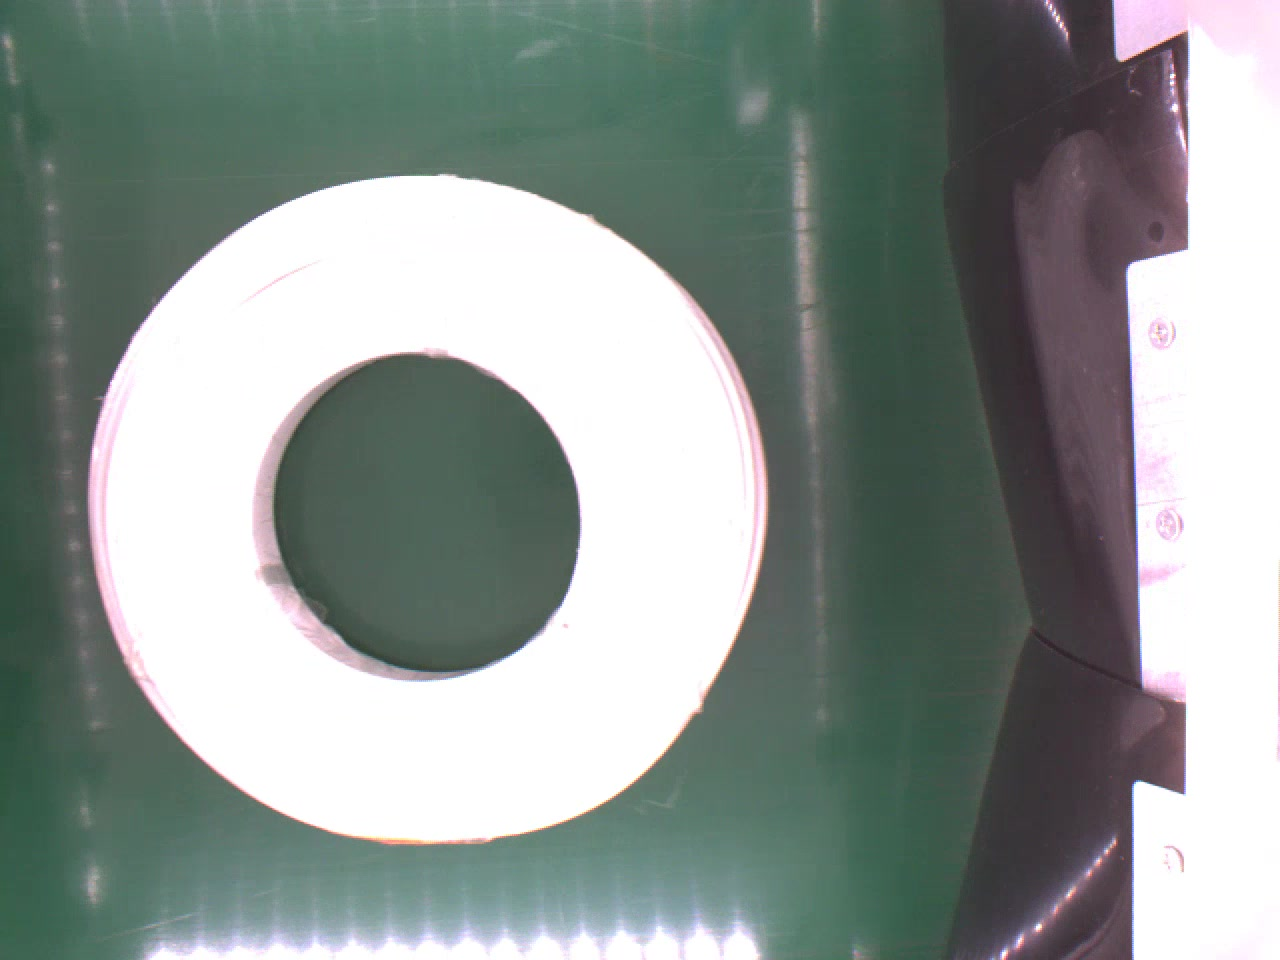white: (76, 167, 771, 856)
